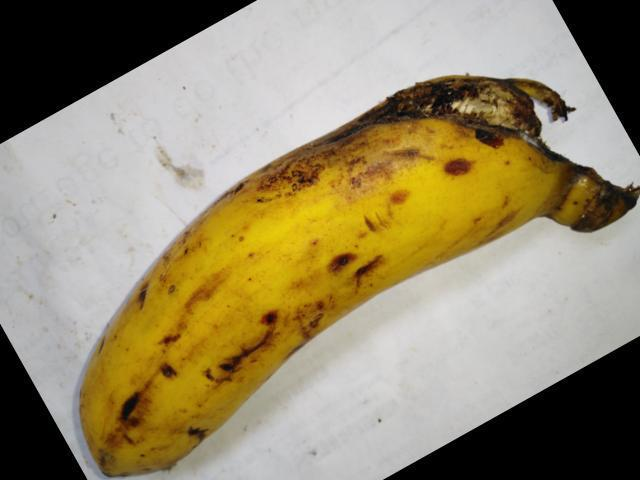ripe: (64, 58, 598, 479)
rotten: (326, 58, 619, 160)
